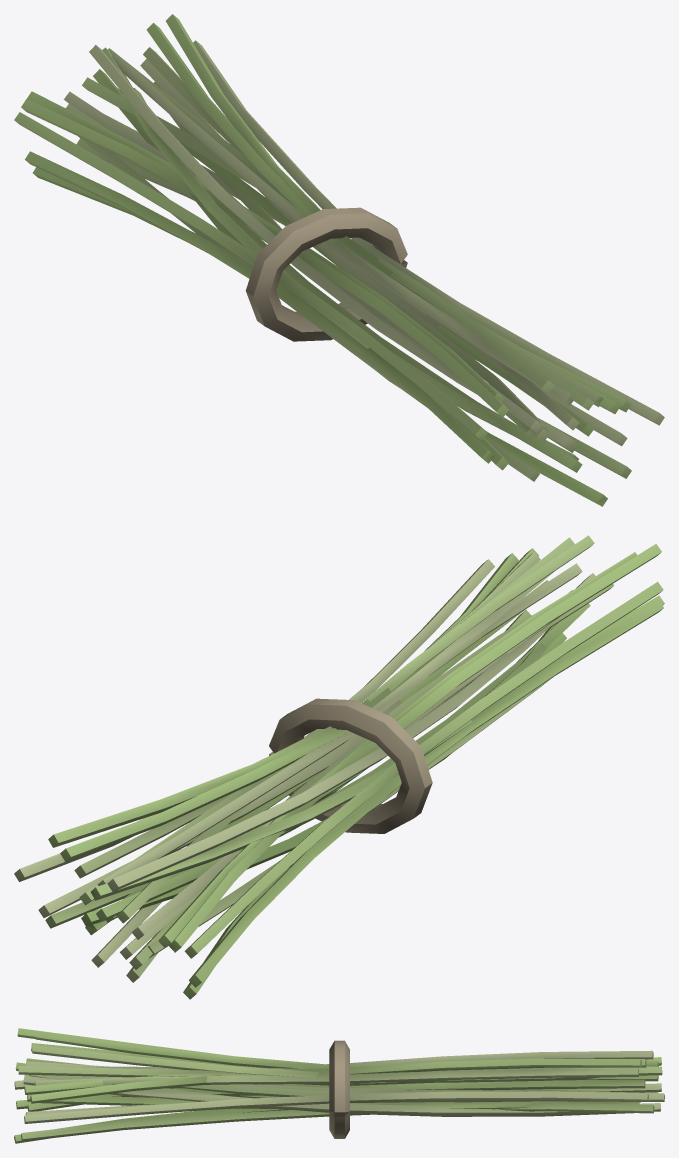
The model's file is fibre.glb.
3 views of the same model, one above another, from view 1: azimuth 30°, elevation 25°; view 2: azimuth 150°, elevation 25°; view 3: azimuth 270°, elevation 25° (orthographic). The views are drawn at different scales.
Visible parts, largest first — view 1: Body_lod0; view 2: Body_lod0; view 3: Body_lod0.
Boxes of the visible parts, box(x1,y1,x2,y2) form: Body_lod0: box(14, 14, 664, 506); Body_lod0: box(14, 535, 664, 999); Body_lod0: box(14, 1028, 664, 1143).
Size of what is drawn, in the model's own units: 0.0839 by 0.0622 by 0.3807.
